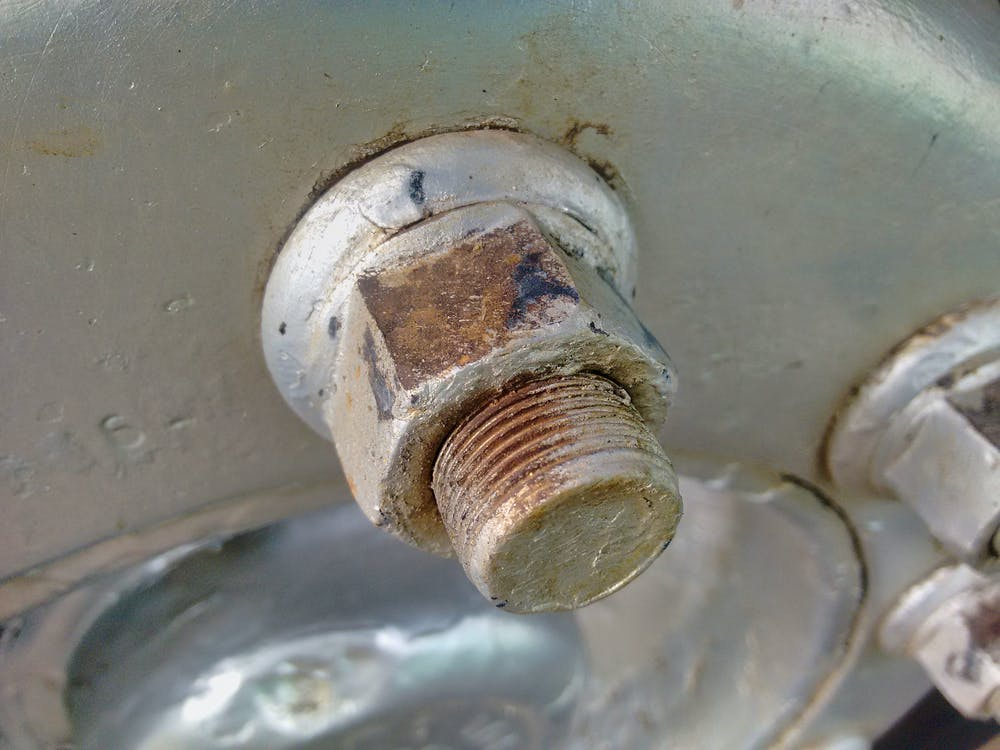bolt_b: (325, 212, 679, 573)
